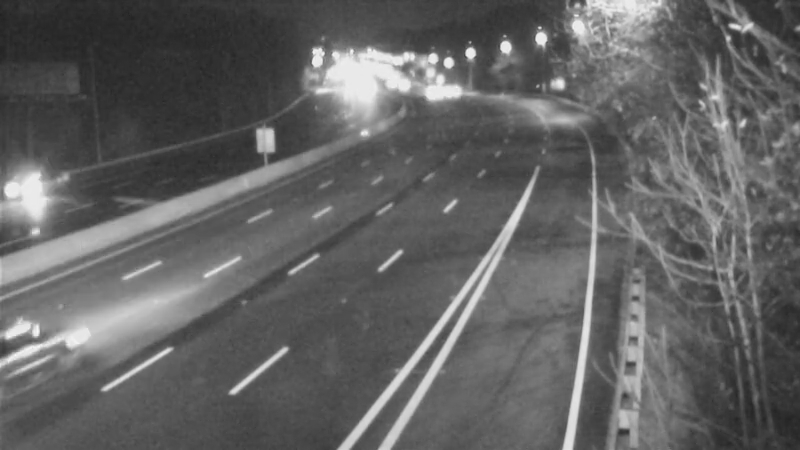vehicle: (1, 325, 96, 435), (1, 143, 78, 223)
